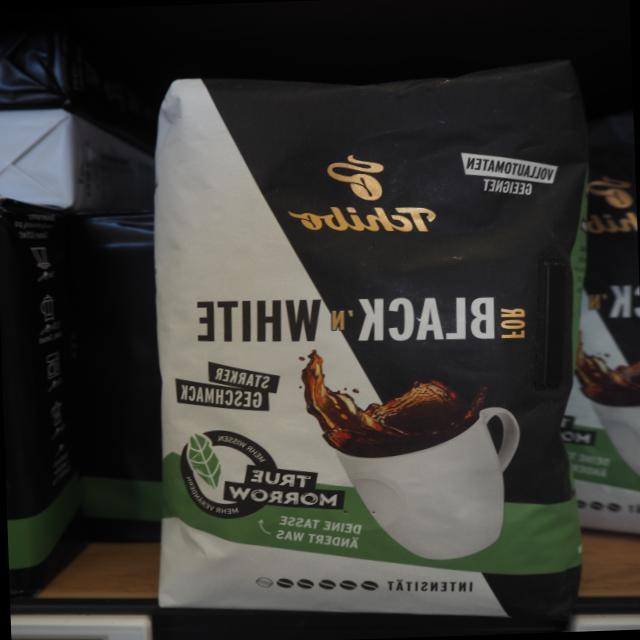BW Bohne: (137, 48, 612, 638)
